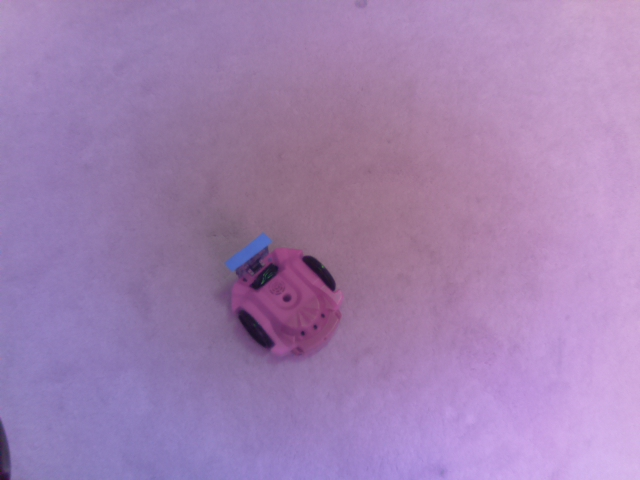board: (228, 234, 273, 274)
chassis: (226, 229, 347, 363)
